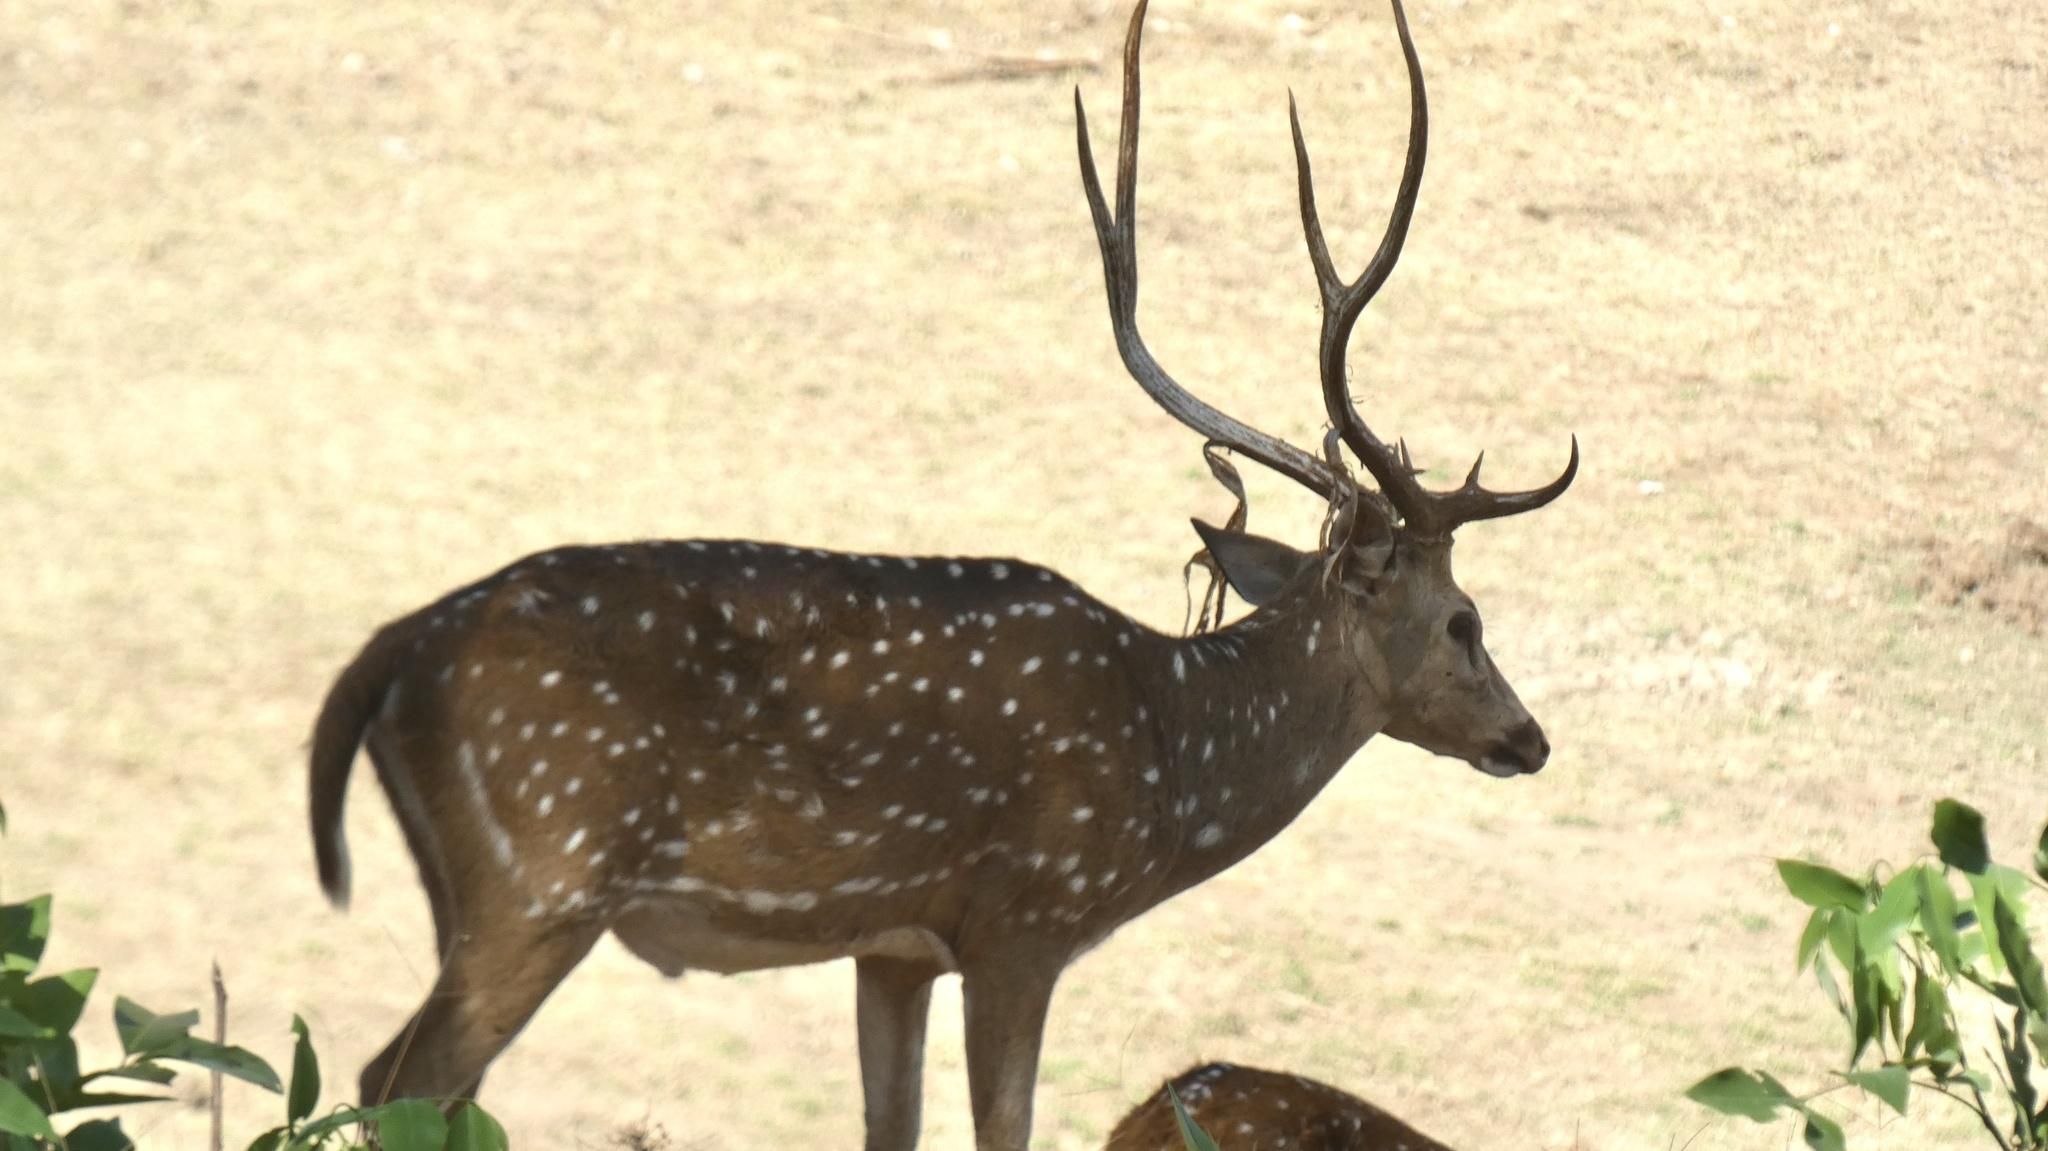Deer: (309, 0, 1580, 1147)
